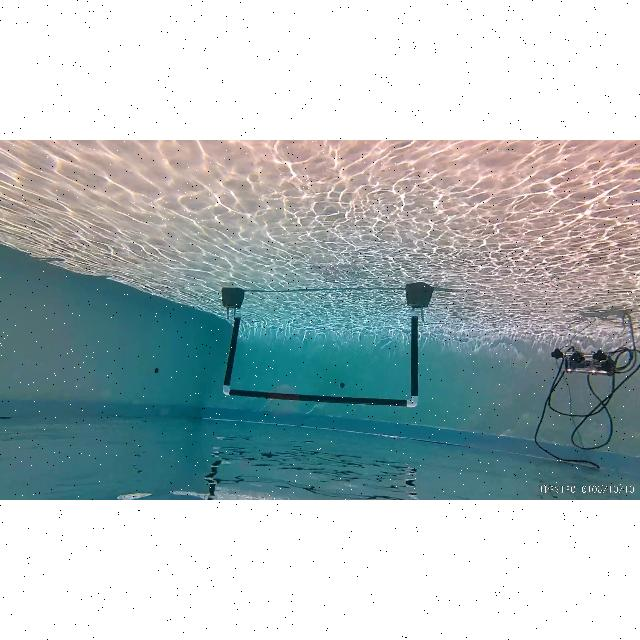prequal gate: (221, 310, 423, 408)
prequal gate leg l: (404, 310, 424, 408)
prequal gate leg r: (220, 311, 246, 399)
